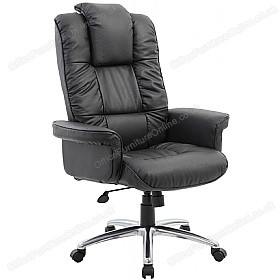chairs: (50, 2, 234, 280)
